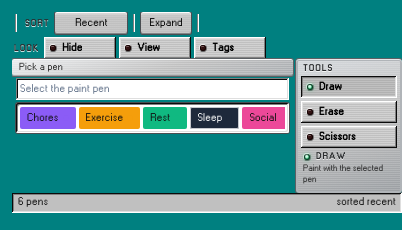
Test case: PenPalette bead well › puts detail copy on a steel plate so tray photos cannot wash it out
This screenshot has width=402, height=230.
Click the button "Rest": (165, 118) [143,107,188,129]
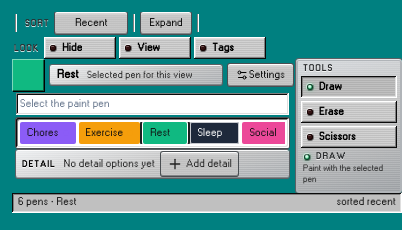
Now the element with class "trk-detail-plate" shows "Detail", box [22,160,56,168]
Now the element with class "trk-detail-plate" shows "No detail options yet", box [16,150,289,178]
Now the element with class "trk-detail-plate" shows "Add detail", box [161,152,238,176]
